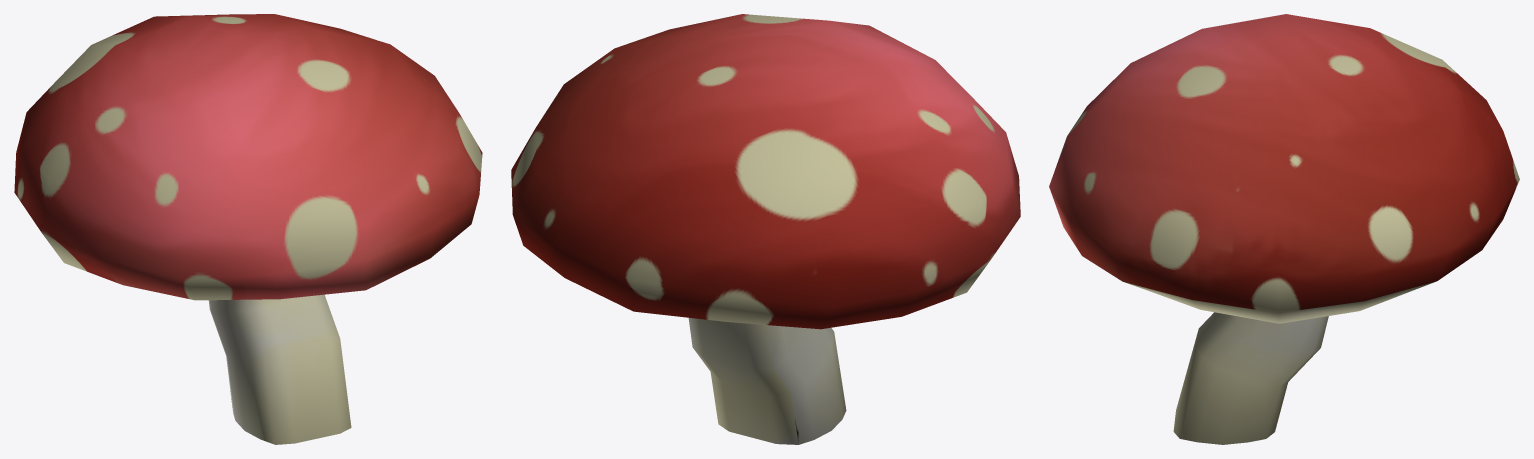
File: MushroomBall1_Deco.fbx
3 views of the same model, side by side, from view 1: azimuth 30°, elevation 25°; view 2: azimuth 150°, elevation 25°; view 3: azimuth 270°, elevation 25° (orthographic). The views are drawn at different scales.
Visible parts, largest first — view 1: MushroomBall1; view 2: MushroomBall1; view 3: MushroomBall1.
Part boxes in pixels (x1=…): MushroomBall1: x1=14, y1=14, x2=482, y2=444; MushroomBall1: x1=511, y1=14, x2=1020, y2=444; MushroomBall1: x1=1049, y1=14, x2=1519, y2=444.
Bounding box in the file's own units: 13.11 × 11.28 × 13.05.
